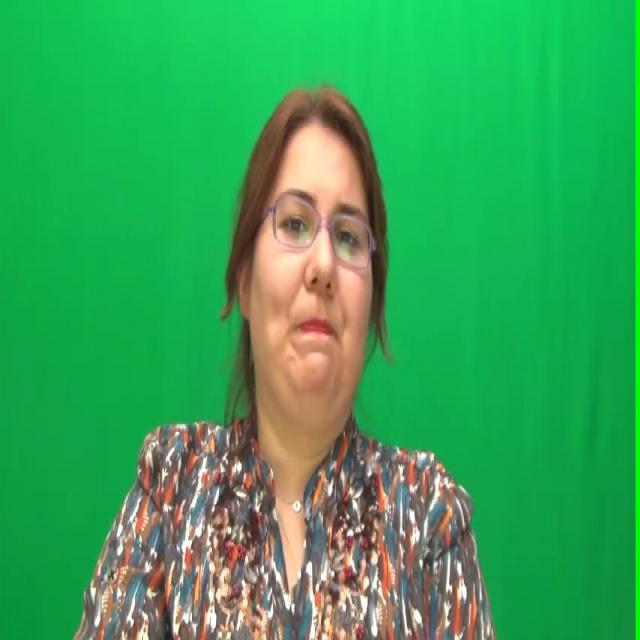Engaged: (252, 117, 369, 406)
